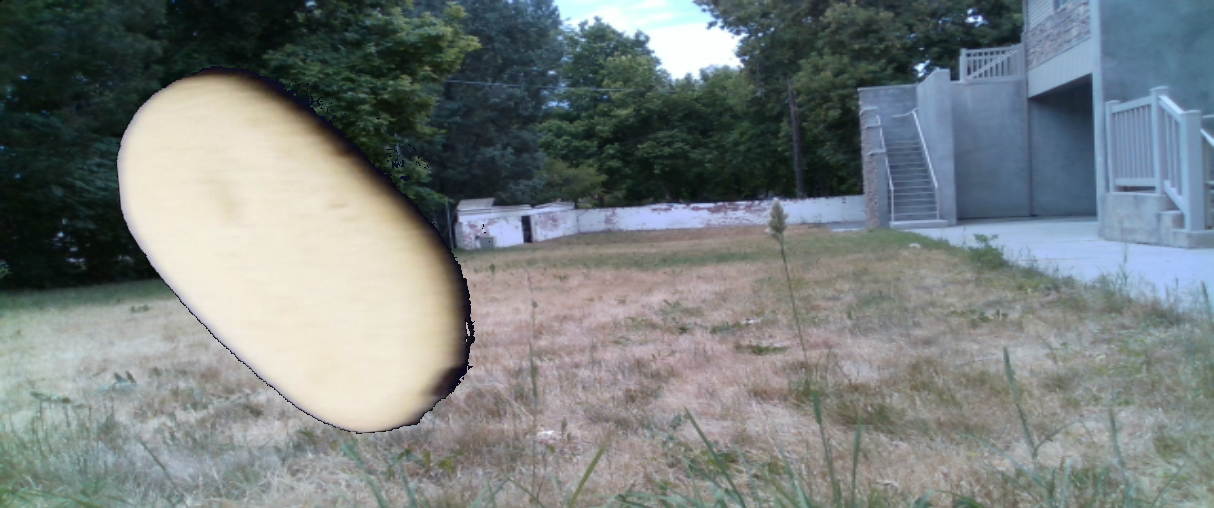test: (109, 42, 506, 451)
